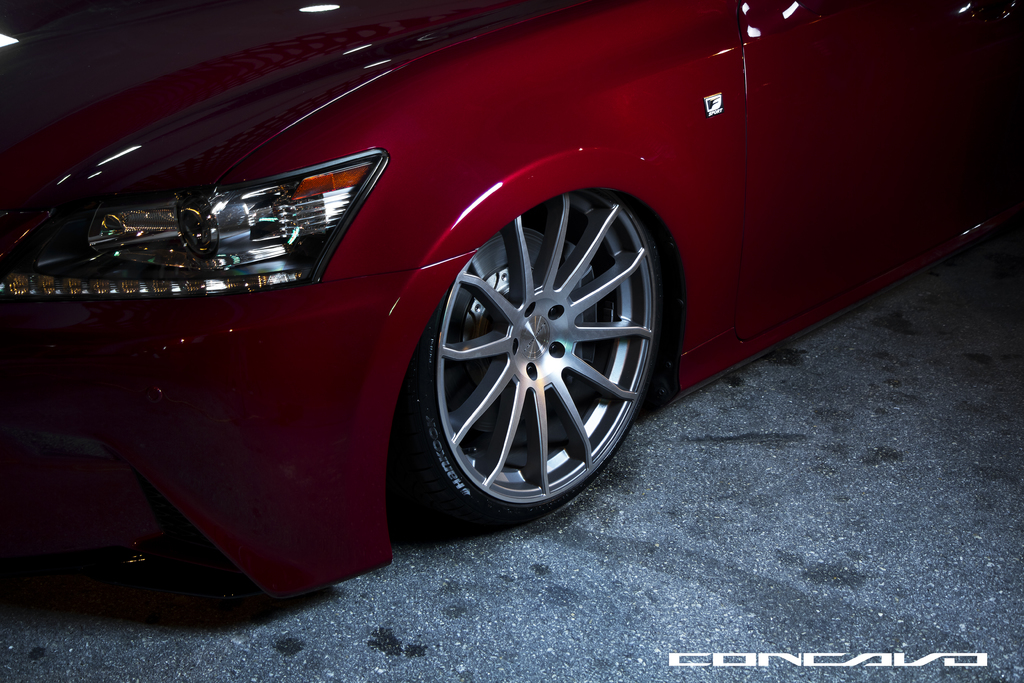Car: (16, 0, 961, 579)
